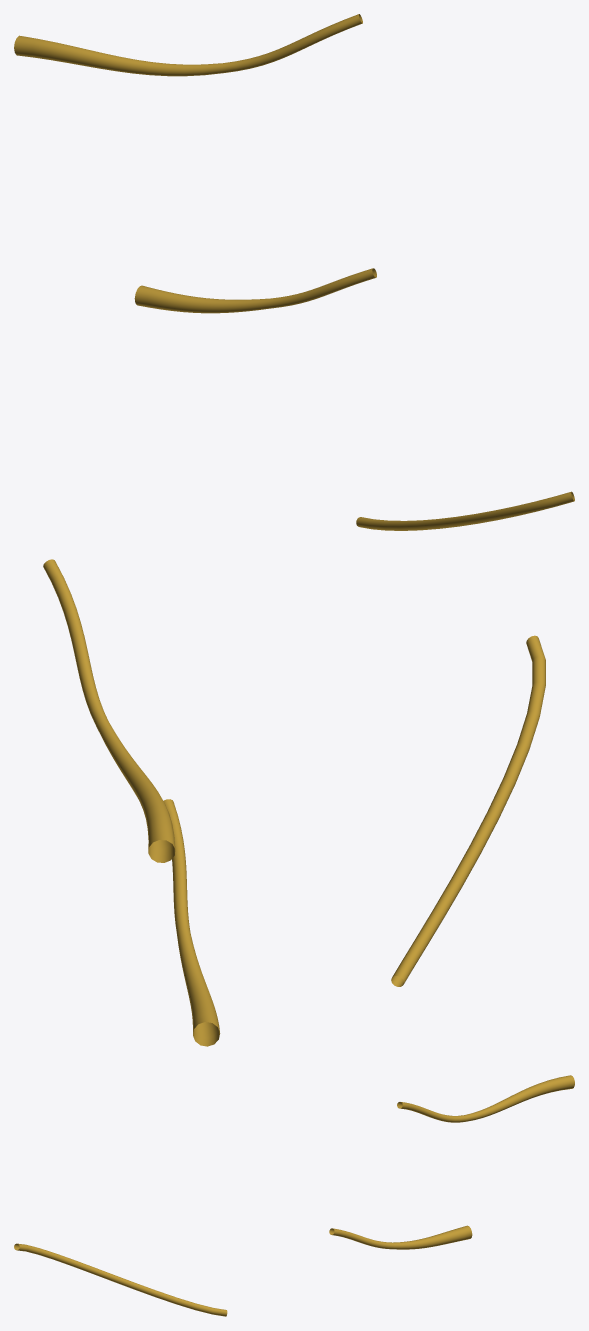
The picture shows the model from 3 angles, top to bottom: view 1: azimuth 30°, elevation 25°; view 2: azimuth 150°, elevation 25°; view 3: azimuth 270°, elevation 25°; orthographic projection. The views are drawn at different scales.
Visible parts, largest first — view 1: 右侧股后皮神经前根; view 2: 右侧股后皮神经前根; view 3: 右侧股后皮神经前根.
Part boxes in pixels (box(x1,y1,x2,y2)): 右侧股后皮神经前根: box(14, 14, 574, 530); 右侧股后皮神经前根: box(43, 559, 545, 1046); 右侧股后皮神经前根: box(14, 1075, 574, 1316).
Size of the model in its own units: 0.0369 by 0.0608 by 0.1204.
